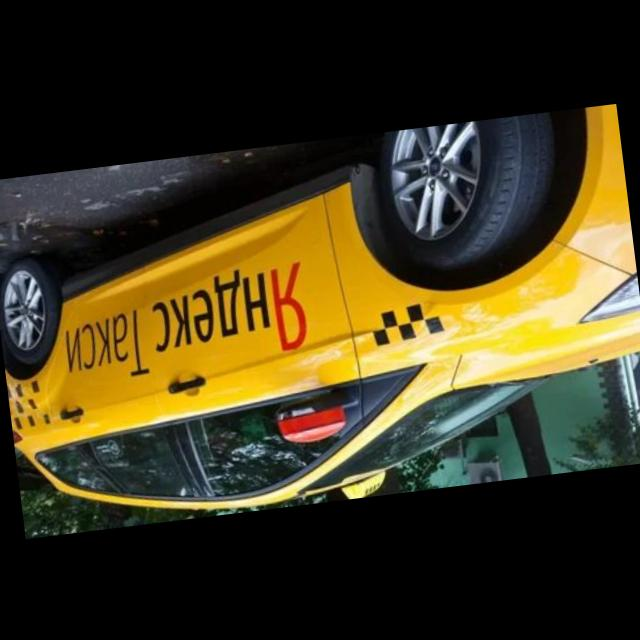taxi: (1, 105, 640, 538)
